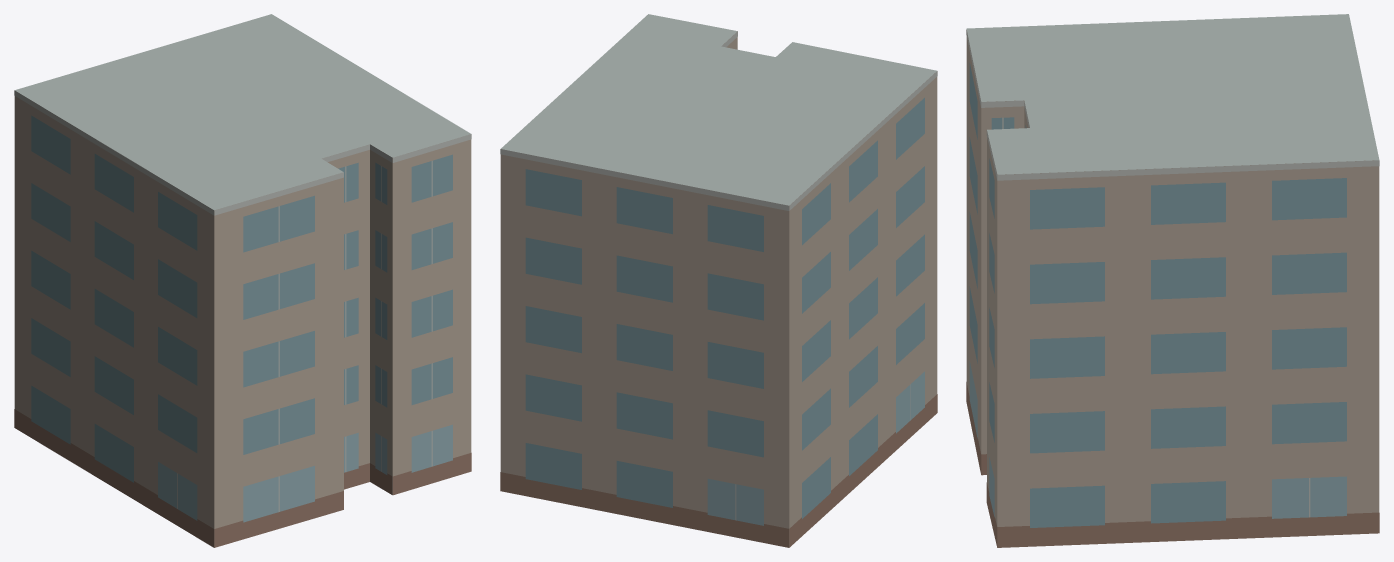
The model's file is survey-upis-32920461.glb.
3 views of the same model, side by side, from view 1: azimuth 30°, elevation 25°; view 2: azimuth 150°, elevation 25°; view 3: azimuth 270°, elevation 25° (orthographic). The views are drawn at different scales.
Visible parts, largest first — view 1: survey-upis-32920461.tmp; view 2: survey-upis-32920461.tmp; view 3: survey-upis-32920461.tmp.
Part boxes in pixels (x1=…): survey-upis-32920461.tmp: x1=14, y1=14, x2=471, y2=547; survey-upis-32920461.tmp: x1=500, y1=14, x2=937, y2=547; survey-upis-32920461.tmp: x1=966, y1=14, x2=1379, y2=547.
Bounding box in the file's own units: 14.1 × 15.25 × 15.31.
